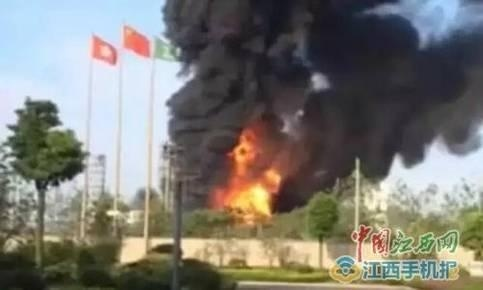fire: (213, 131, 284, 221)
